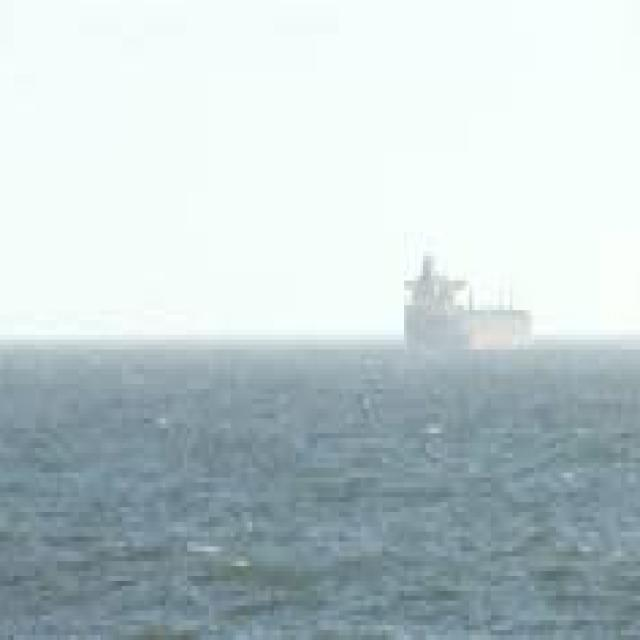cargoship: (404, 254, 530, 354)
